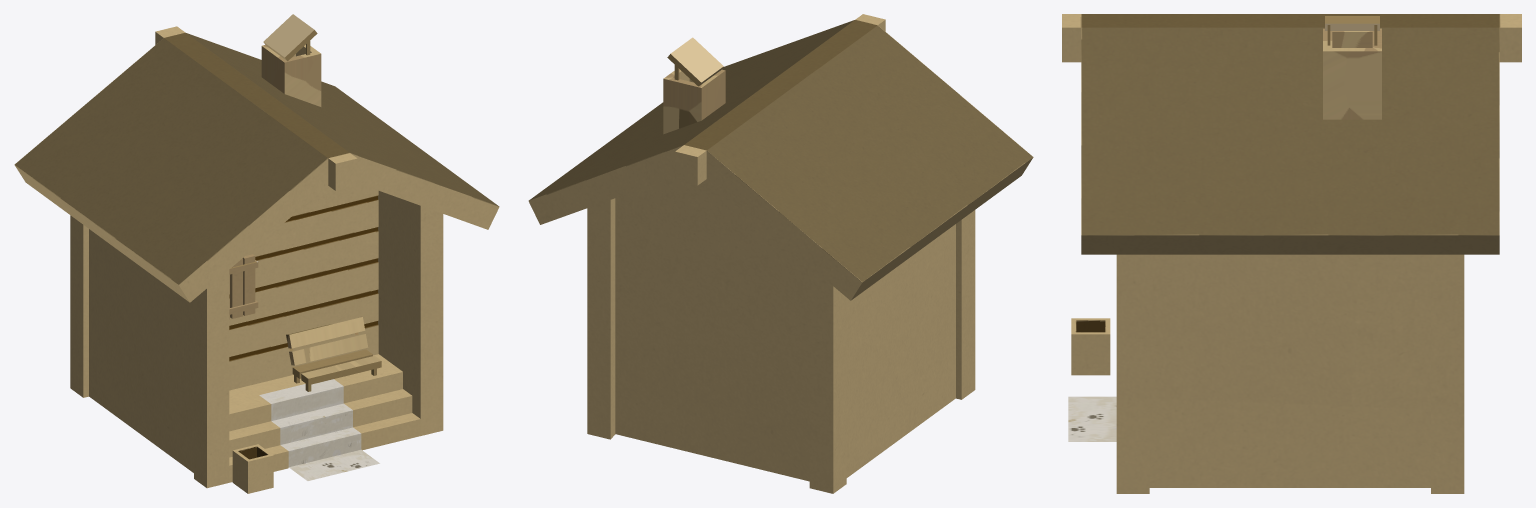
Rendered from muwu.fbx.
3 renders of one model, left to right at view 1: azimuth 30°, elevation 25°; view 2: azimuth 150°, elevation 25°; view 3: azimuth 270°, elevation 25°, orthographic. The views are drawn at different scales.
Visible parts, largest first — view 1: 对象002; view 2: 对象002; view 3: 对象002.
Part boxes in pixels (x1=…): 对象002: x1=14, y1=14, x2=499, y2=493; 对象002: x1=528, y1=14, x2=1033, y2=493; 对象002: x1=1062, y1=14, x2=1521, y2=493.
Bounding box in the file's own units: 403 × 423 × 393.
2 materials, 2 textured.
